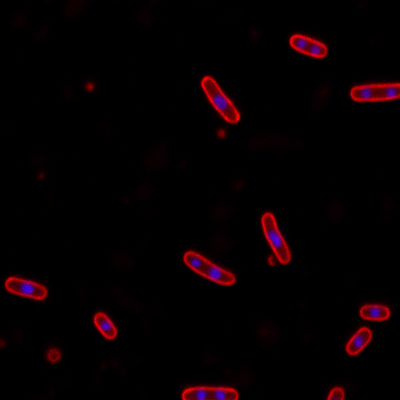CAM: (180, 248, 237, 287), (198, 74, 241, 124), (259, 210, 293, 265), (287, 31, 328, 60), (3, 276, 48, 301), (344, 324, 373, 356), (90, 310, 117, 340), (359, 302, 391, 322)
Vesicle: (43, 346, 61, 365), (213, 127, 227, 141), (82, 79, 95, 93), (36, 170, 48, 182)
